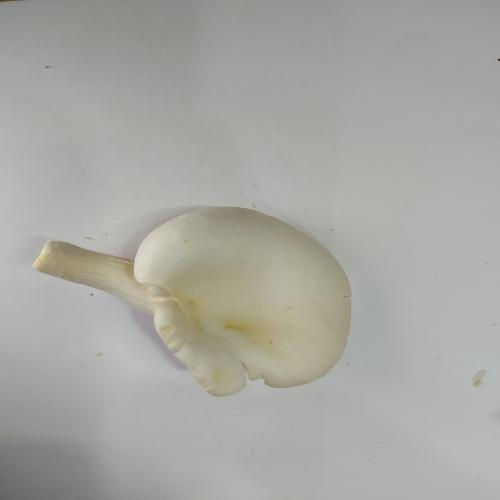Oyster Mushroom: (31, 205, 353, 398)
